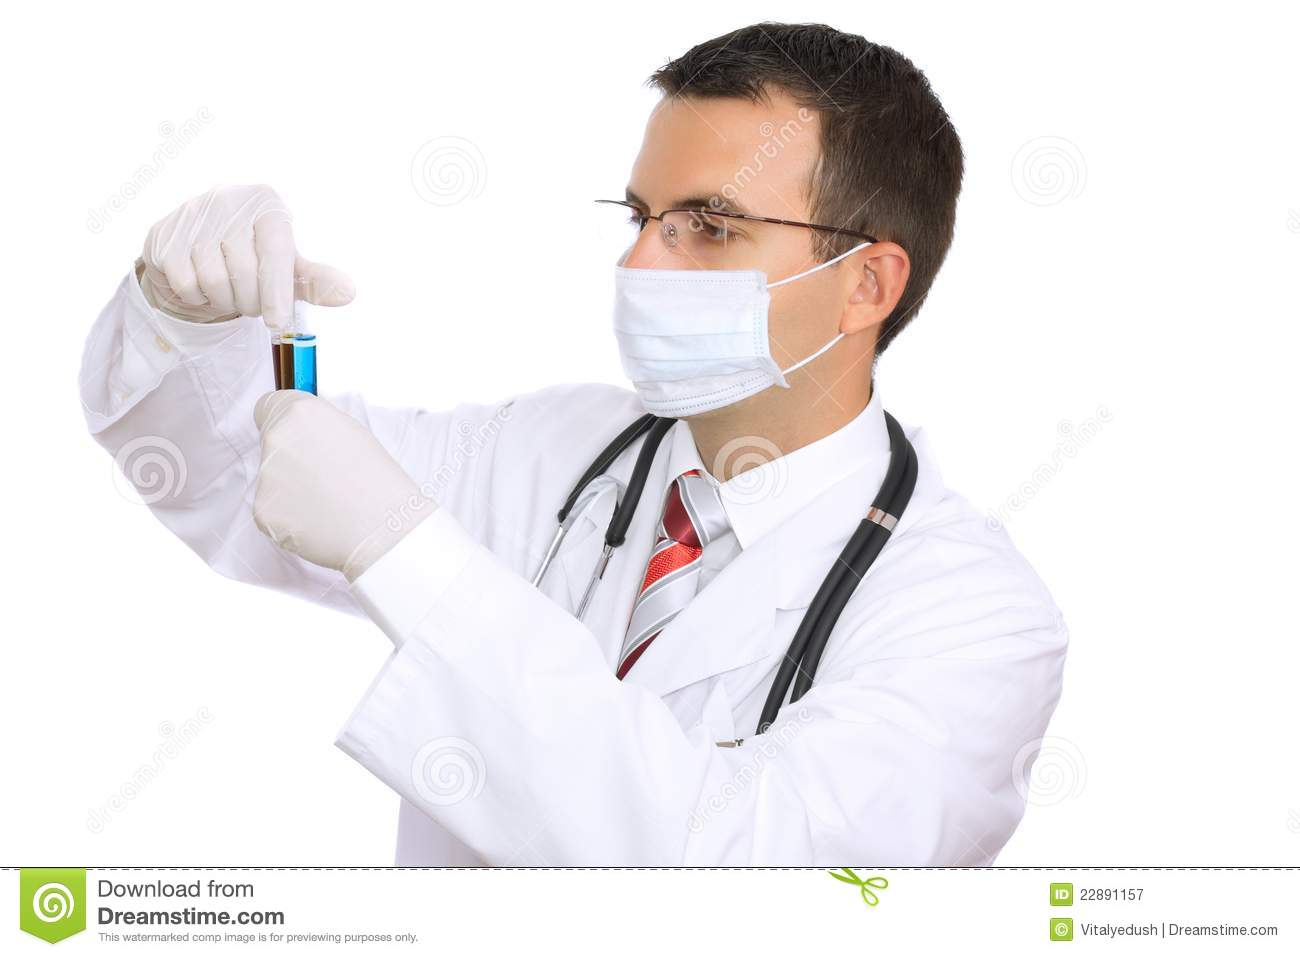mask: (594, 260, 791, 423)
